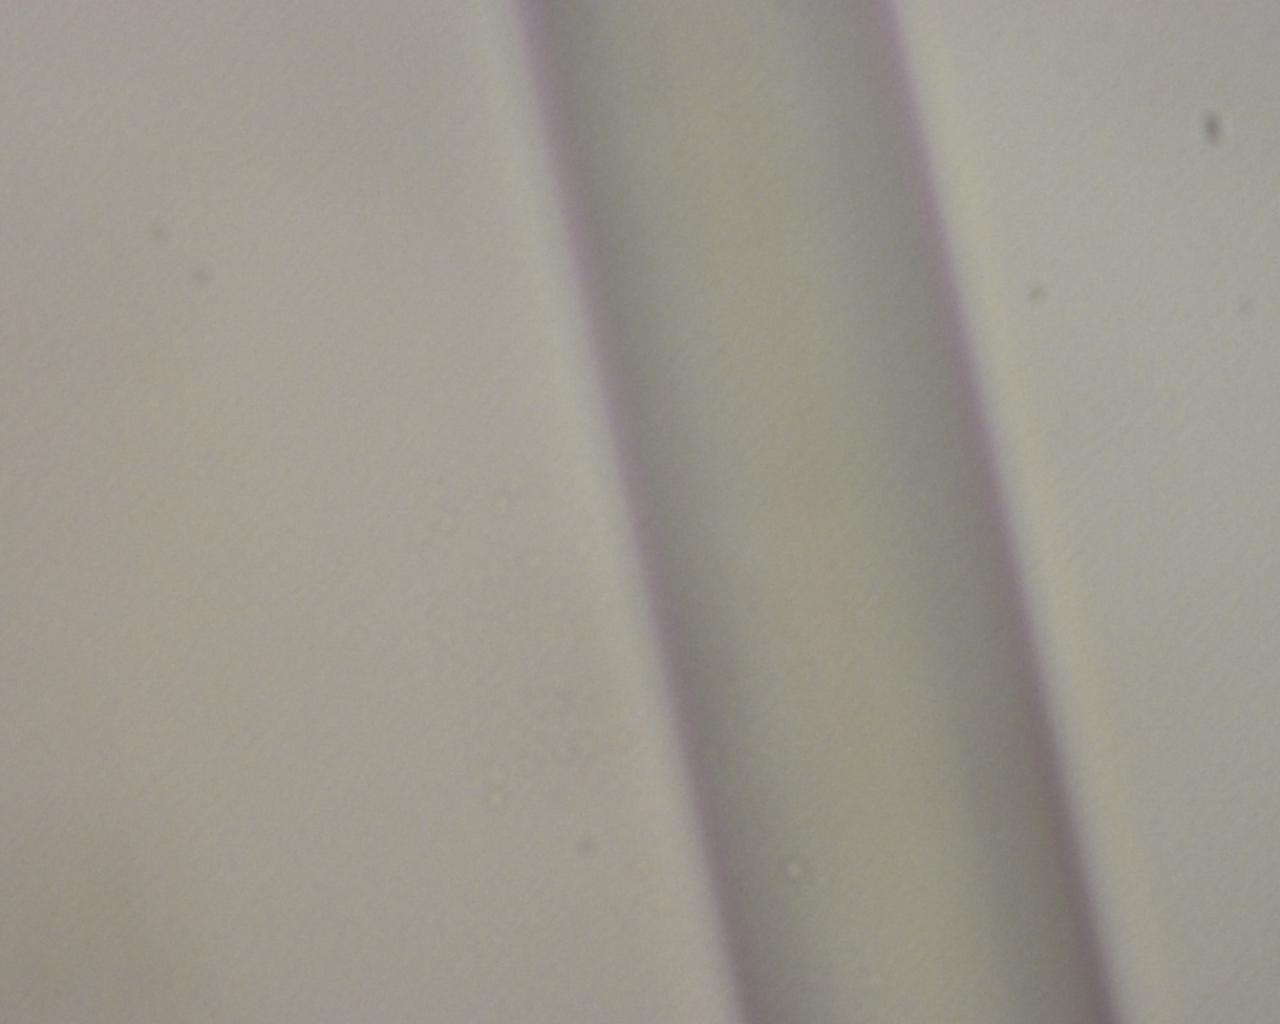fiber: (0, 807, 793, 1024), (793, 653, 1271, 834)
